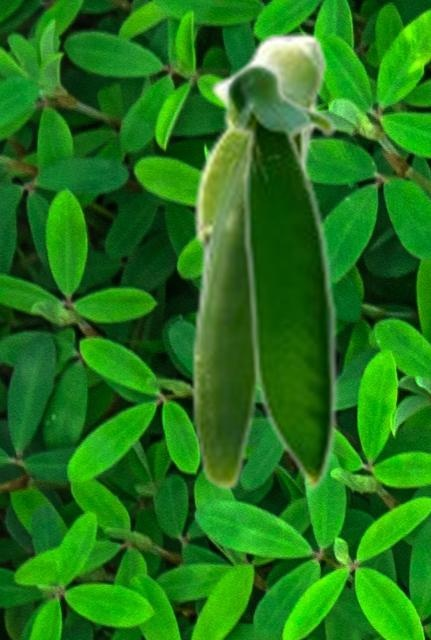pea: (190, 32, 328, 490), (220, 59, 338, 498)
